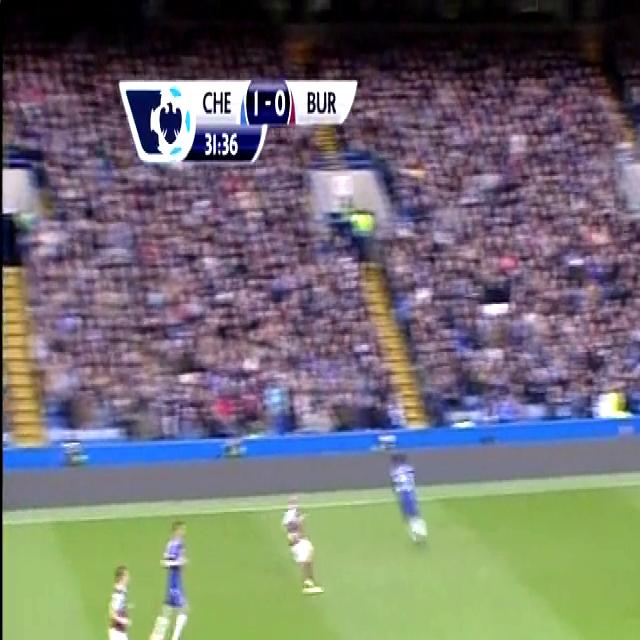soccer-player: (274, 470, 332, 602), (145, 494, 195, 640), (383, 442, 439, 561), (92, 551, 142, 640)
